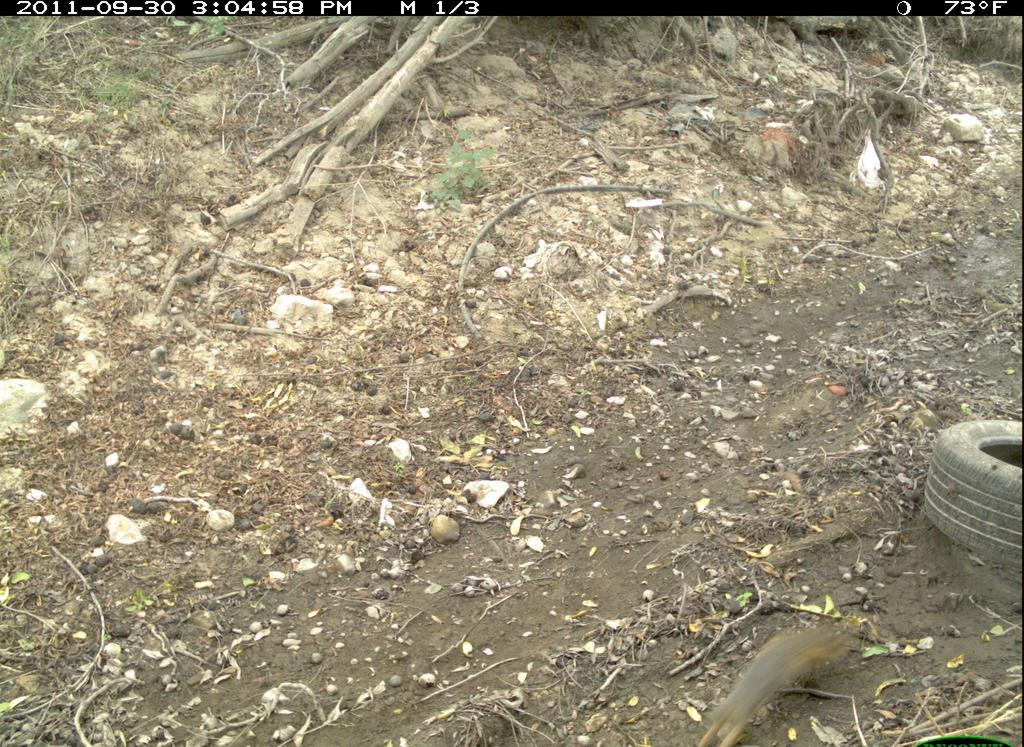squirrel: (688, 615, 875, 744)
